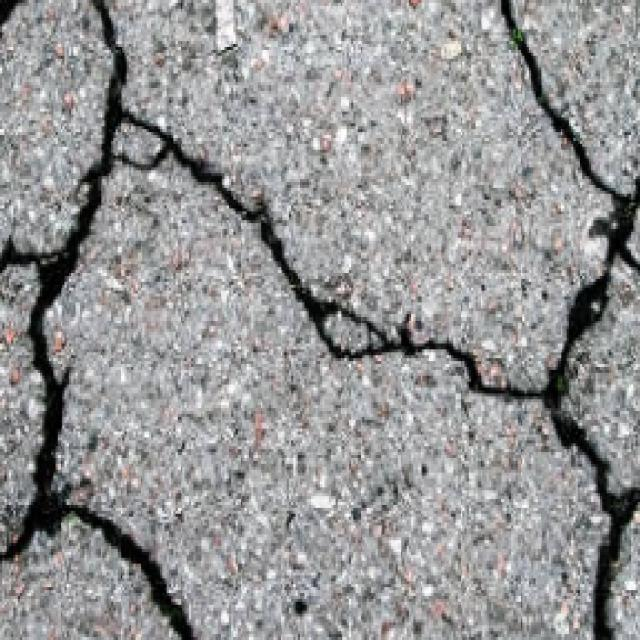branched cracks: (0, 0, 639, 639)
